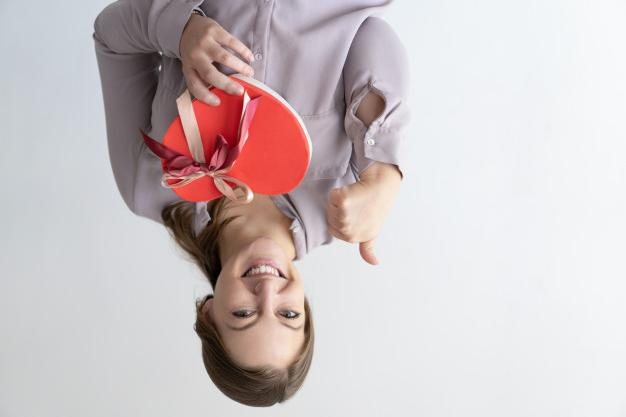thumbsdown: (325, 187, 380, 266)
